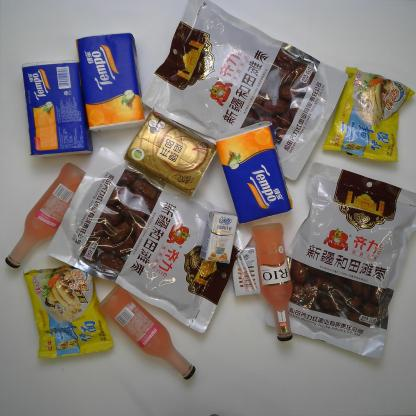Alcohol: (3, 161, 94, 272), (98, 285, 198, 382), (252, 222, 293, 342)
Dried Food: (46, 146, 254, 334), (140, 0, 350, 182), (264, 160, 416, 361)
Instant Noodles: (22, 260, 116, 361), (321, 66, 416, 164)
Milk: (200, 210, 238, 264), (232, 245, 262, 298)
Tissue: (122, 107, 218, 199), (216, 120, 292, 225), (75, 32, 146, 133), (21, 60, 94, 158)
